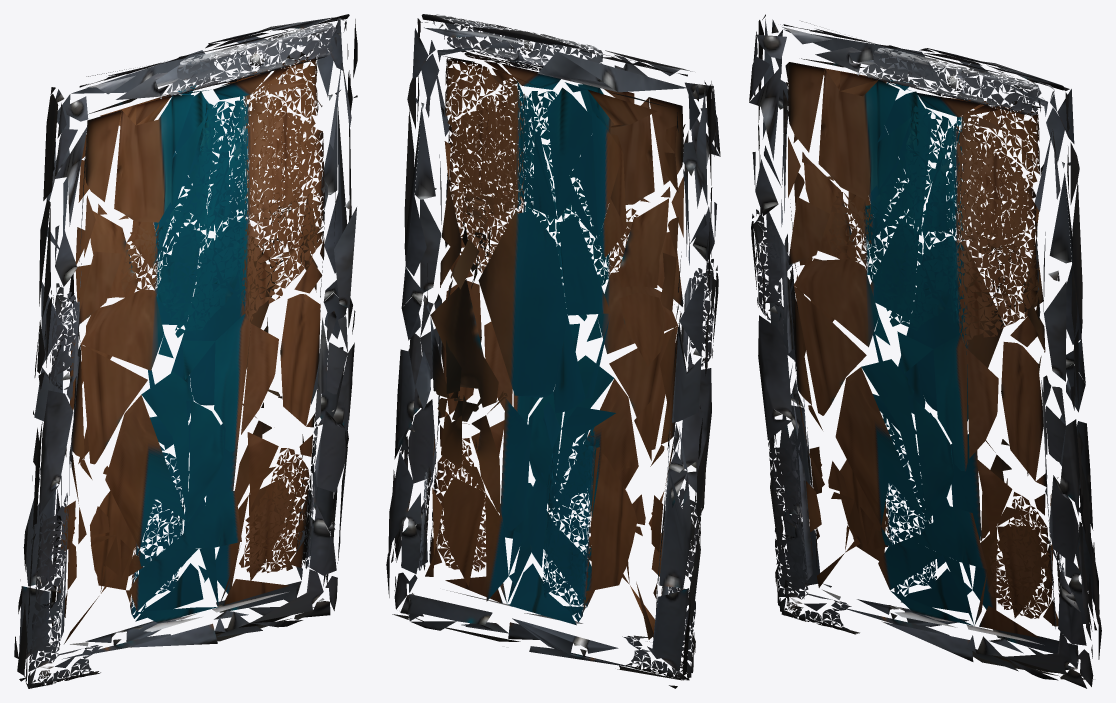
Rendered from shield_rect.glb.
The picture shows the model from 3 angles, left to right: view 1: azimuth 30°, elevation 25°; view 2: azimuth 150°, elevation 25°; view 3: azimuth 330°, elevation 25°; orthographic projection. The views are drawn at different scales.
Parts seen in each view (by area): view 1: node_0; view 2: node_0; view 3: node_0.
Boxes of the visible parts, x1,y1,x2,y2 form: node_0: [14, 14, 357, 688]; node_0: [386, 14, 720, 688]; node_0: [749, 14, 1101, 688].
Size of the model in its own units: 0.4538 by 0.85 by 0.1132.
1 material, 1 textured.
